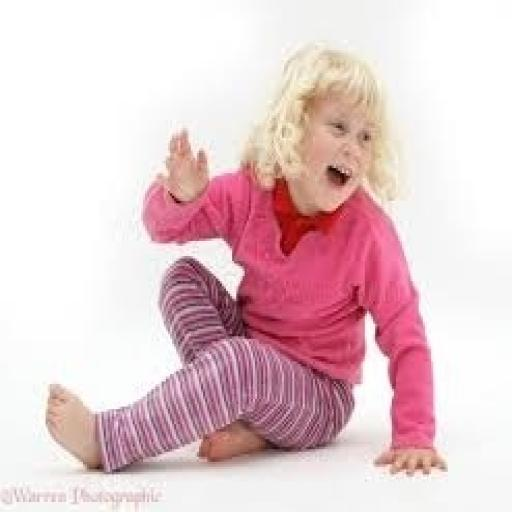laughing: (39, 38, 452, 482)
